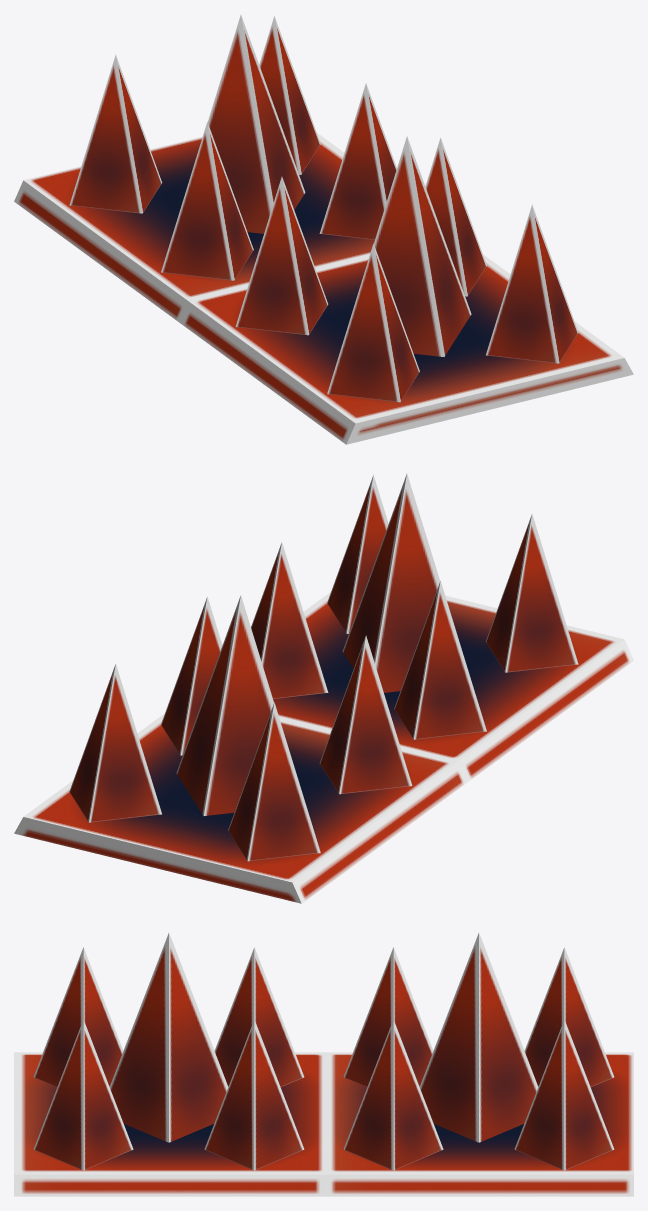
Rendered from MG-ChJ-CS-10JianCi-2.FBX.
3 views of the same model, one above another, from view 1: azimuth 30°, elevation 25°; view 2: azimuth 150°, elevation 25°; view 3: azimuth 270°, elevation 25° (orthographic). The views are drawn at different scales.
Parts seen in each view (by area): view 1: MG-ChJ-CS-10JianCi-2; view 2: MG-ChJ-CS-10JianCi-2; view 3: MG-ChJ-CS-10JianCi-2.
Boxes of the visible parts, box(x1,y1,x2,y2) form: MG-ChJ-CS-10JianCi-2: box(14, 14, 633, 444); MG-ChJ-CS-10JianCi-2: box(14, 473, 633, 903); MG-ChJ-CS-10JianCi-2: box(14, 933, 633, 1196).
Size of the model in its own units: 39.37 by 27.87 by 78.74.
